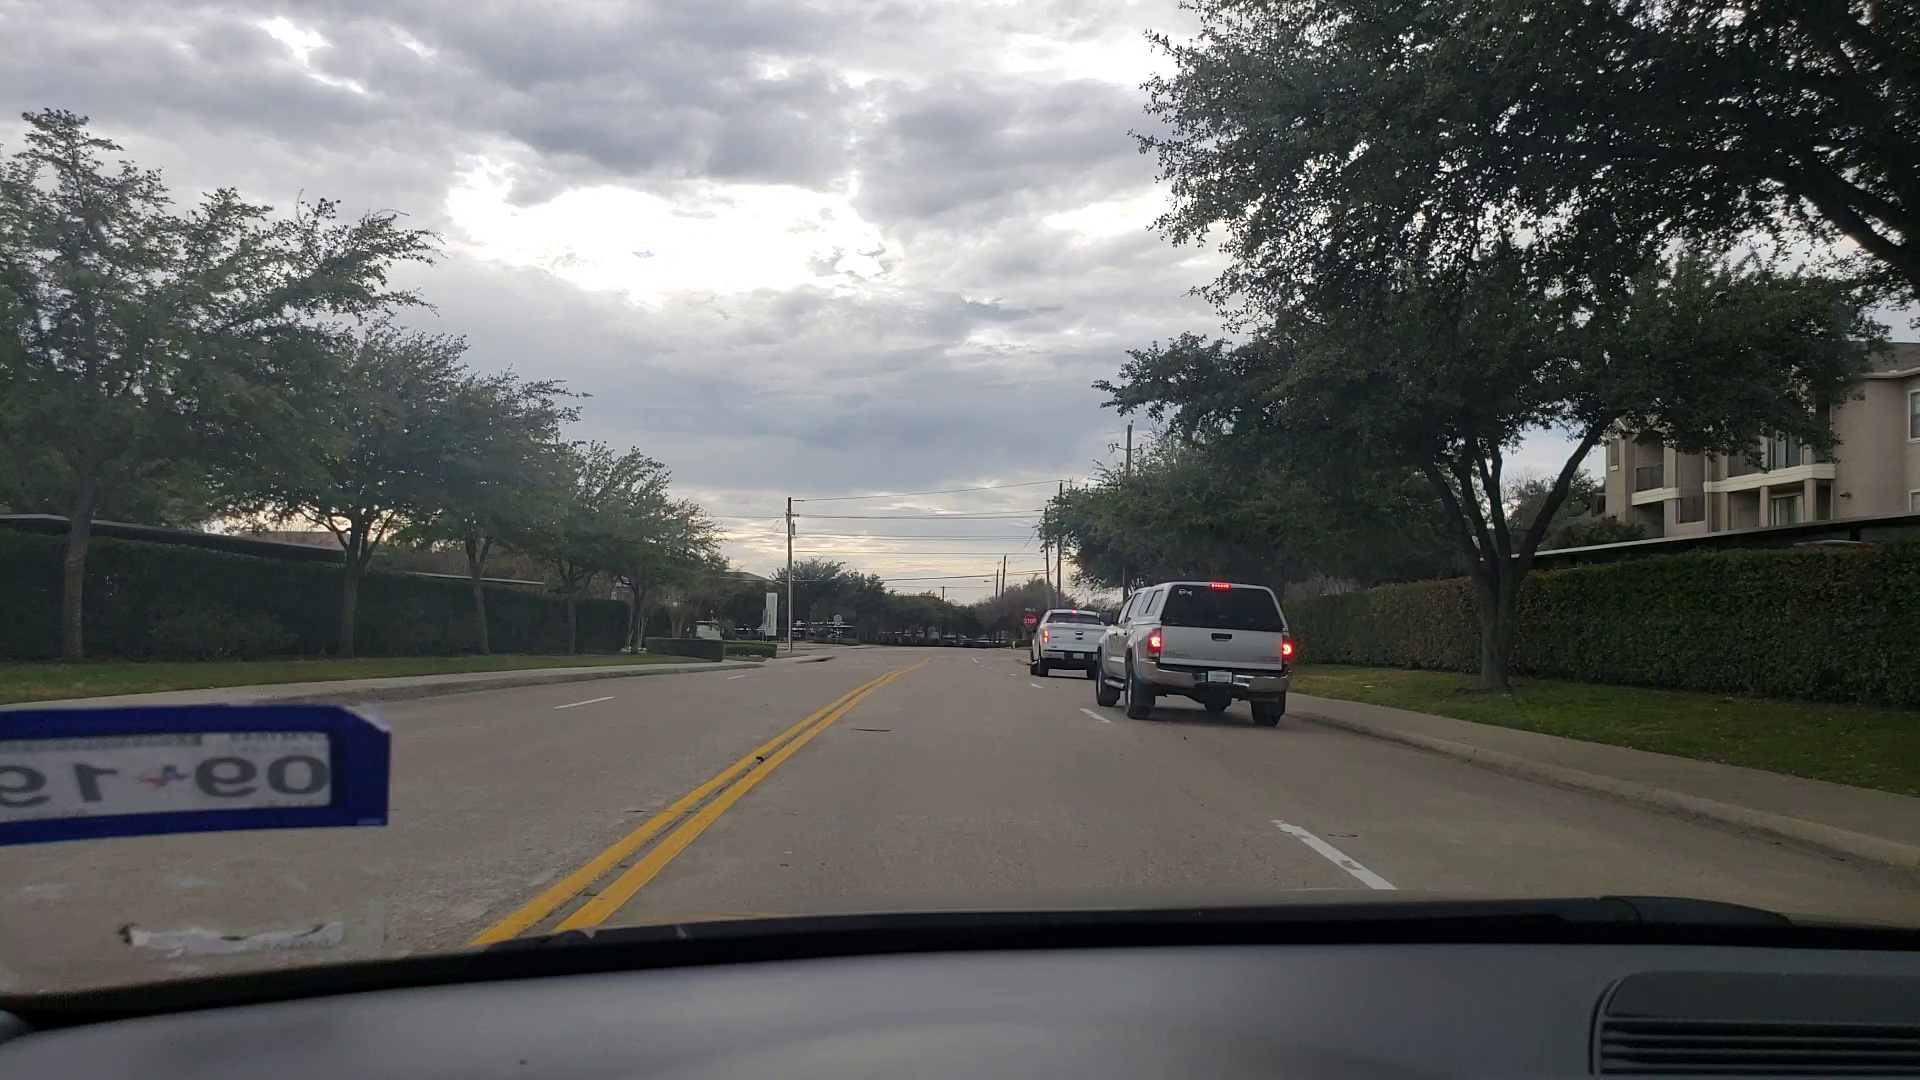truck: (1100, 580, 1290, 731), (1031, 608, 1108, 684)
